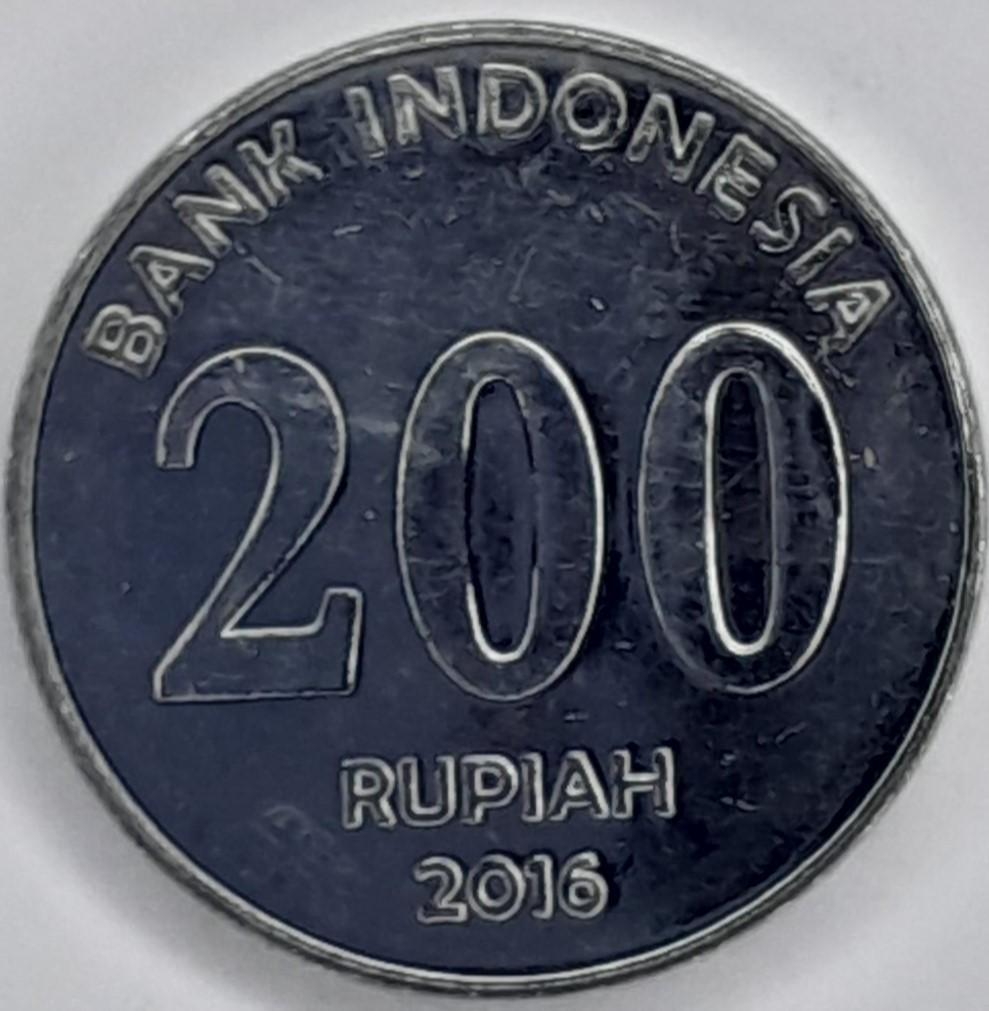coin_200_e2016: (0, 18, 989, 1011)
